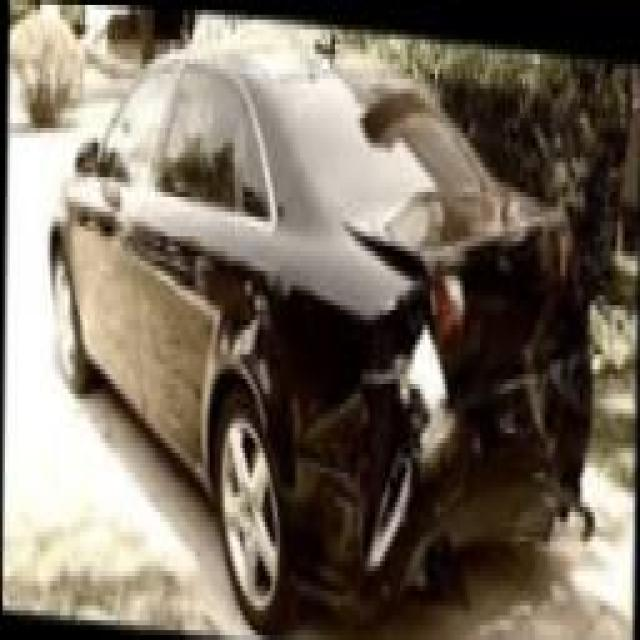replaceable: (365, 202, 597, 569)
